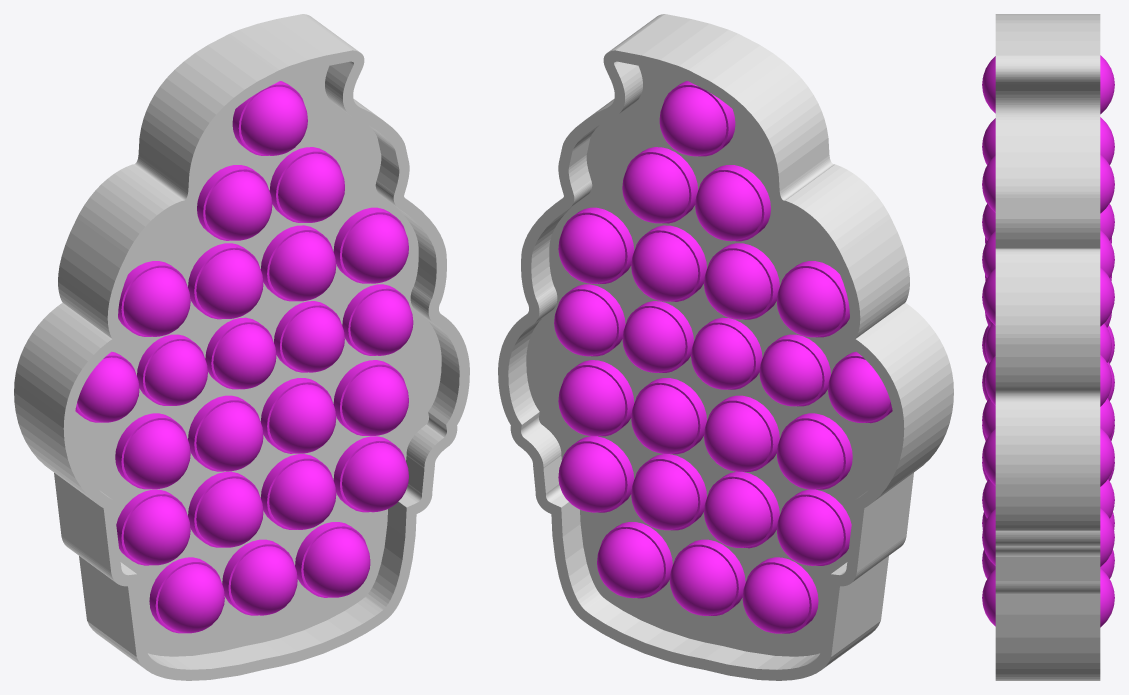
3 views of the same model, side by side, from view 1: azimuth 30°, elevation 25°; view 2: azimuth 150°, elevation 25°; view 3: azimuth 270°, elevation 25° (orthographic). The views are drawn at different scales.
Visible parts, largest first — view 1: Extrude.006, Sphere.519, Sphere.537, Sphere.539, Sphere.532, Sphere.534, Sphere.536, Sphere.522, Sphere.530, Sphere.533, Sphere.538, Sphere.529 (+34 smaller); view 2: Extrude.006, Sphere.553, Sphere.541, Sphere.554, Sphere.560, Sphere.559, Sphere.558, Sphere.561, Sphere.540, Sphere.543, Sphere.545, Sphere.557 (+34 smaller); view 3: Extrude.006, Sphere.554, Sphere.558, Sphere.540, Sphere.541, Sphere.545, Sphere.562, Sphere.531, Sphere.535, Sphere.517, Sphere.518, Sphere.522 (+15 smaller).
Part boxes in pixels (<box>): Extrude.006: <box>14,14,469,680</box>; Sphere.519: <box>205,171,272,240</box>; Sphere.537: <box>230,546,297,615</box>; Sphere.539: <box>303,528,370,597</box>; Sphere.532: <box>269,384,336,453</box>; Sphere.534: <box>123,496,190,565</box>; Sphere.536: <box>269,460,336,529</box>; Sphere.522: <box>342,214,408,283</box>; Sphere.530: <box>123,420,190,489</box>; Sphere.533: <box>196,478,263,547</box>; Sphere.538: <box>158,564,224,633</box>; Sphere.529: <box>196,402,263,471</box>; Extrude.006: <box>498,14,953,680</box>; Sphere.553: <box>777,420,843,489</box>; Sphere.541: <box>622,154,689,223</box>; Sphere.554: <box>558,367,625,436</box>; Sphere.560: <box>669,546,736,615</box>; Sphere.559: <box>631,461,698,530</box>; Sphere.558: <box>558,443,625,512</box>; Sphere.561: <box>742,564,809,633</box>; Sphere.540: <box>659,87,726,156</box>; Sphere.543: <box>704,250,770,319</box>; Sphere.545: <box>558,214,625,283</box>; Sphere.557: <box>777,496,843,565</box>; Extrude.006: <box>995,14,1100,680</box>; Sphere.554: <box>1100,428,1114,486</box>; Sphere.558: <box>1100,508,1114,566</box>; Sphere.540: <box>1100,55,1114,114</box>; Sphere.541: <box>1100,154,1114,213</box>; Sphere.545: <box>1100,267,1114,326</box>; Sphere.562: <box>1100,568,1114,627</box>; Sphere.531: <box>982,429,995,485</box>; Sphere.535: <box>982,509,995,565</box>; Sphere.517: <box>982,56,995,113</box>; Sphere.518: <box>982,155,995,212</box>; Sphere.522: <box>982,268,995,325</box>.
Size of the model in its own units: 16.74 by 23.62 by 4.51.
